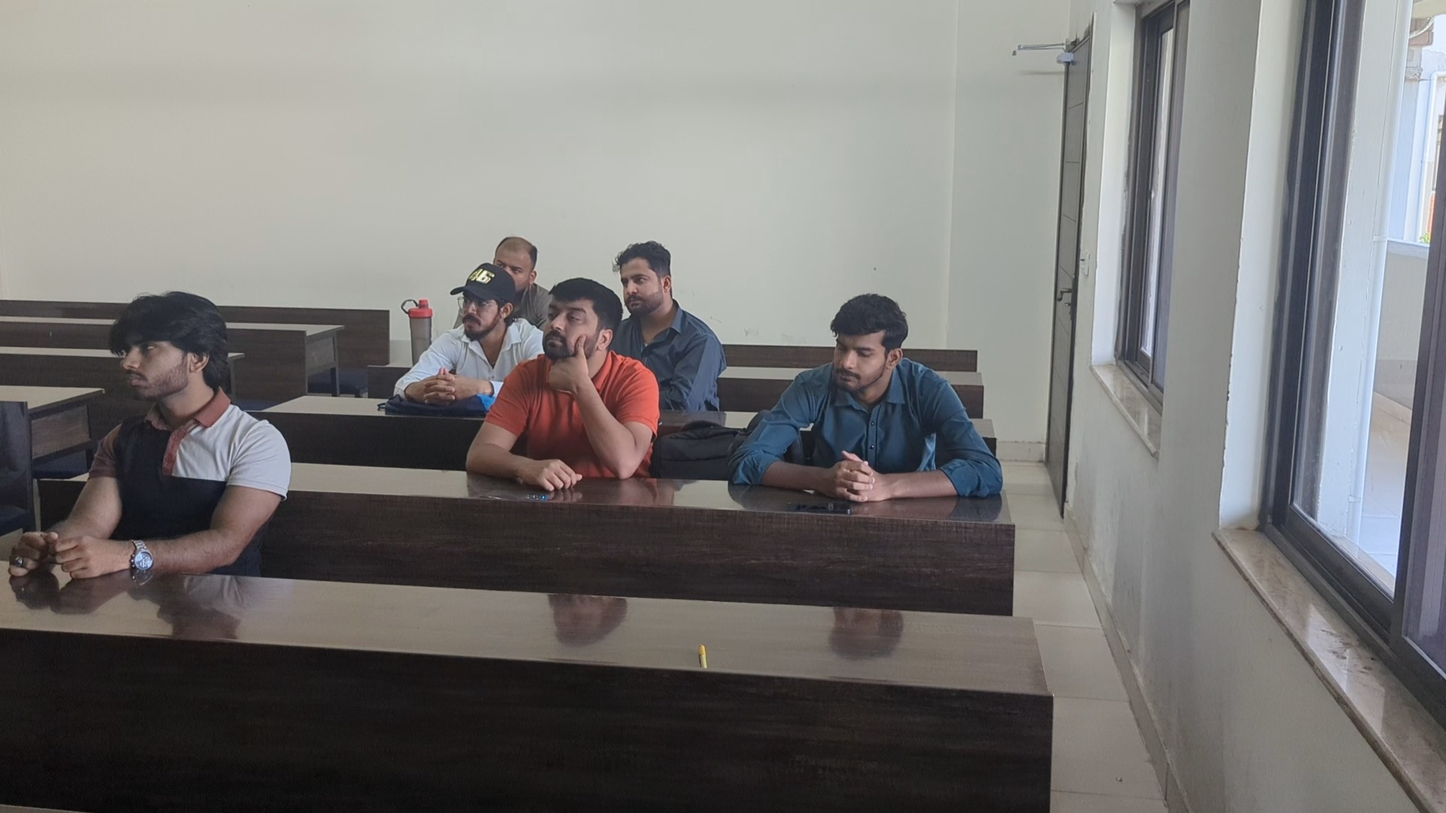look_forward: (100, 276, 264, 547), (499, 262, 604, 451), (620, 220, 699, 367), (431, 279, 535, 385), (502, 216, 558, 290)
sleep: (803, 292, 932, 492)
